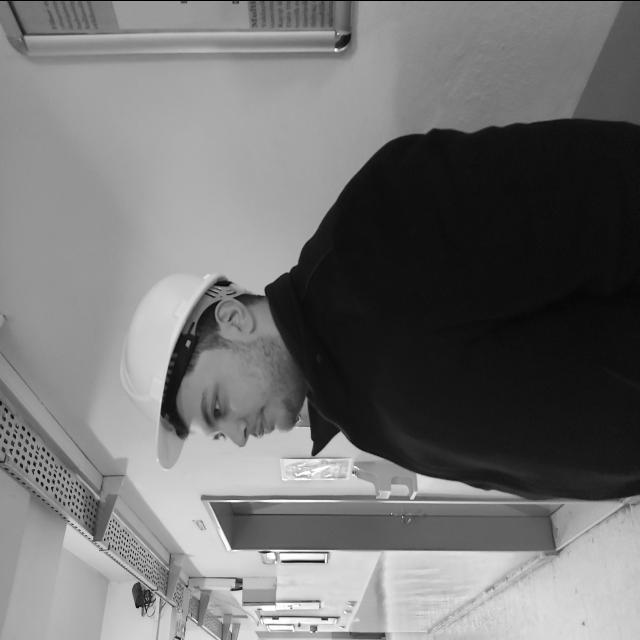safety_helmet: (120, 269, 243, 470)
